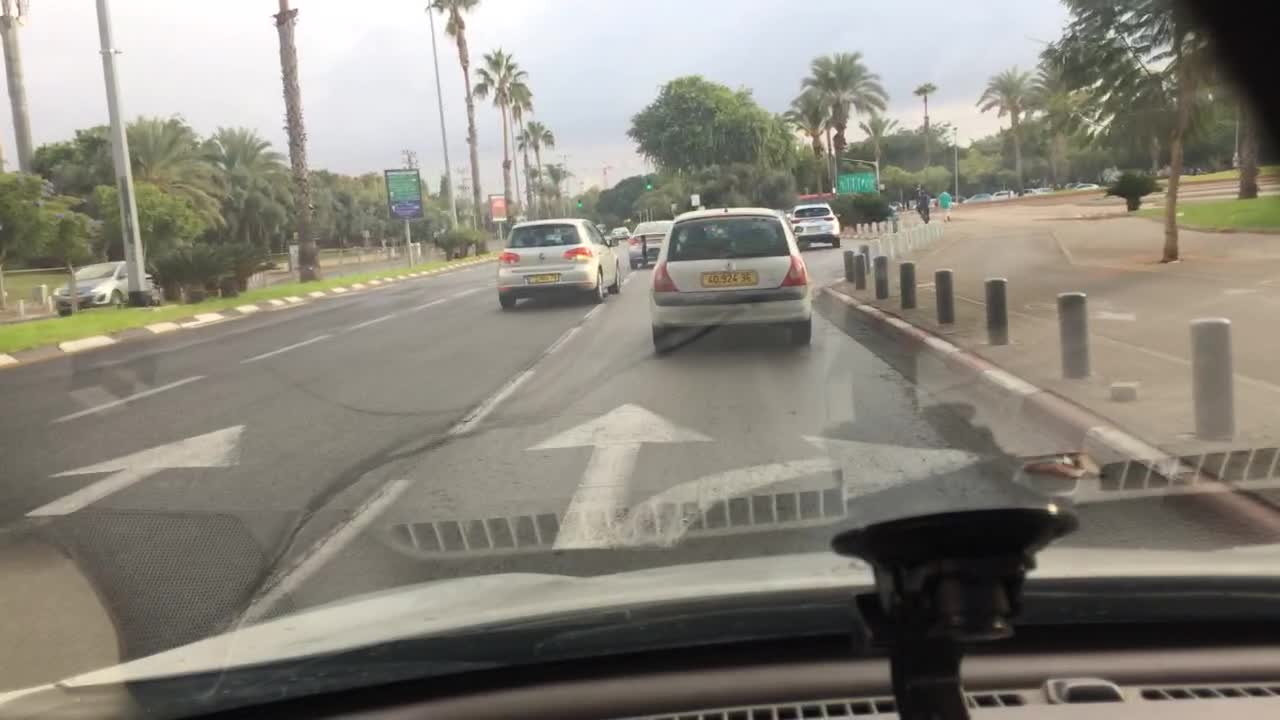bike: (917, 205, 929, 225)
car: (647, 202, 814, 357), (495, 215, 623, 311), (55, 259, 163, 313), (788, 202, 841, 250), (627, 219, 675, 270), (962, 192, 995, 202), (610, 225, 631, 239), (1072, 181, 1101, 191), (912, 201, 936, 210), (888, 199, 901, 211), (993, 191, 1015, 198), (1036, 186, 1052, 194), (950, 196, 967, 203), (1023, 188, 1033, 196)
person: (935, 189, 953, 223)
rider: (916, 189, 928, 212)
traffic light: (577, 197, 582, 209), (647, 176, 651, 190)
traffic sign: (836, 174, 877, 191), (692, 193, 699, 205)
